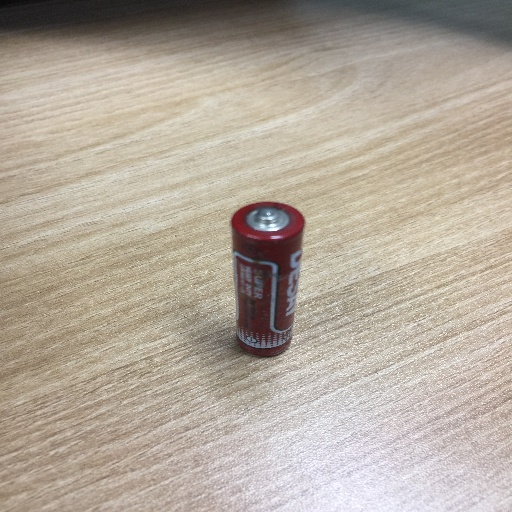Battery_0: (221, 190, 311, 374)
